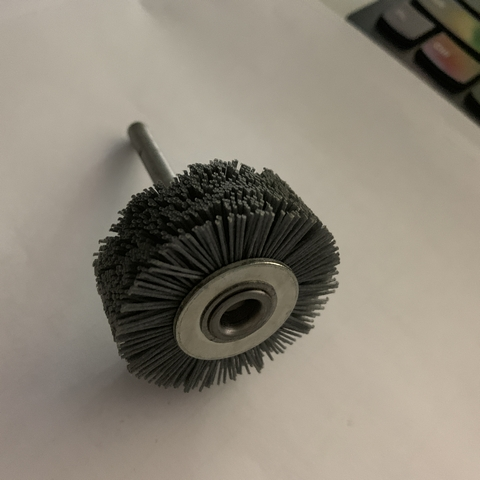Wheel Brush: (93, 78, 367, 431), (93, 116, 337, 393), (88, 104, 328, 355), (111, 95, 313, 353)
